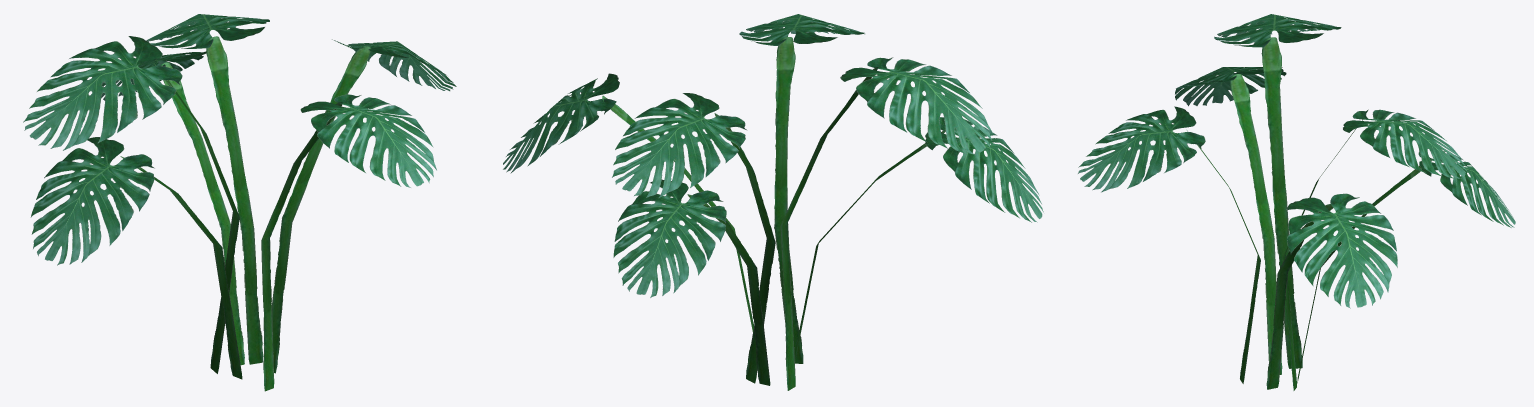
File: phi_2s_LOD1.fbx
3 views of the same model, side by side, from view 1: azimuth 30°, elevation 25°; view 2: azimuth 150°, elevation 25°; view 3: azimuth 270°, elevation 25° (orthographic). The views are drawn at different scales.
Visible parts, largest first — view 1: phi_LOD1; view 2: phi_LOD1; view 3: phi_LOD1.
Boxes of the visible parts, box(x1,y1,x2,y2) form: phi_LOD1: box(23, 14, 456, 391); phi_LOD1: box(503, 14, 1043, 390); phi_LOD1: box(1078, 14, 1515, 390).
Size of the model in its own units: 737 by 504 by 655.
